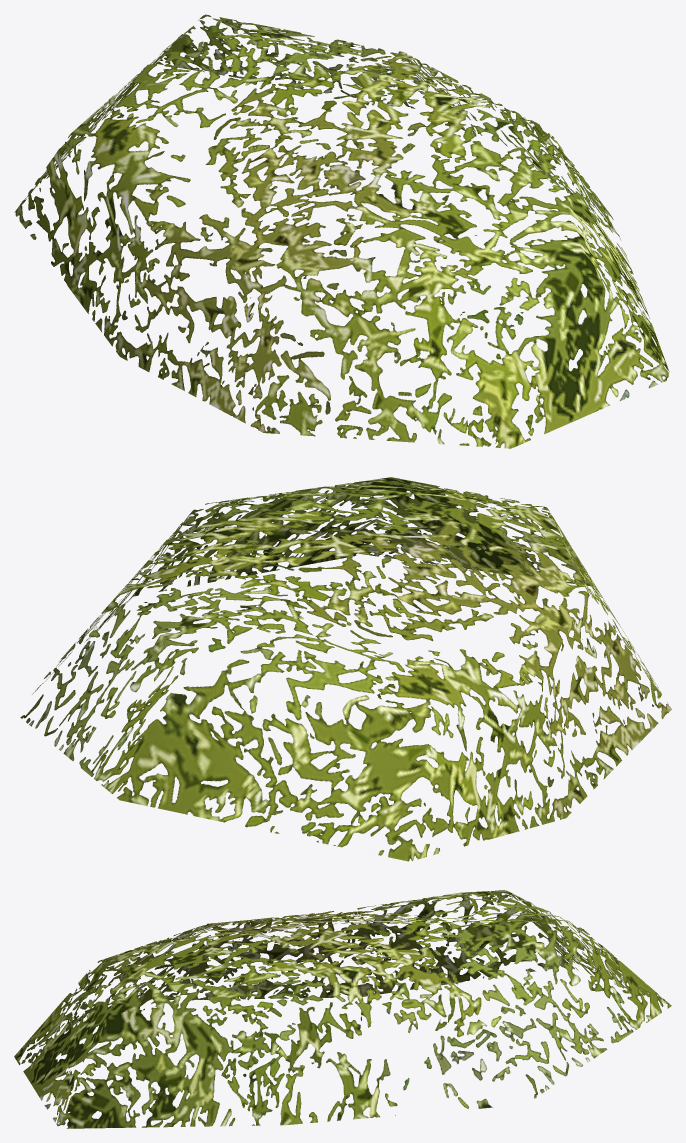
File: Moss02.fbx
3 views of the same model, one above another, from view 1: azimuth 30°, elevation 25°; view 2: azimuth 150°, elevation 25°; view 3: azimuth 270°, elevation 25° (orthographic). The views are drawn at different scales.
Visible parts, largest first — view 1: Moss02; view 2: Moss02; view 3: Moss02.
Boxes of the visible parts, x1,y1,x2,y2 form: Moss02: (14,14,669,448); Moss02: (20,477,671,861); Moss02: (14,890,671,1128).
Size of the model in its own units: 2.73 by 1.15 by 4.21.
Materials: 1 (1 with a texture image).
